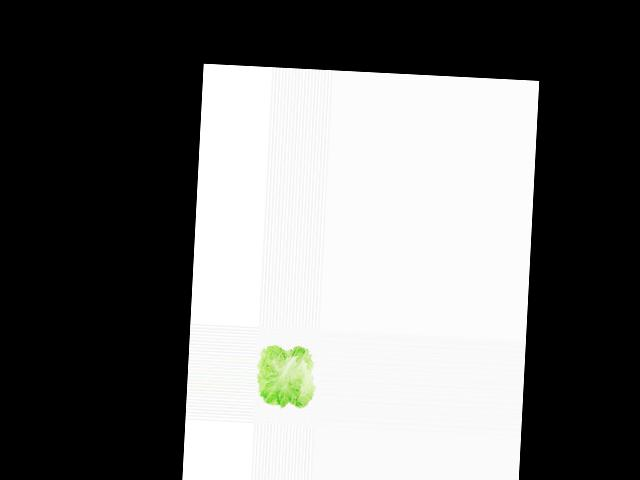lettuce: (253, 339, 319, 413)
